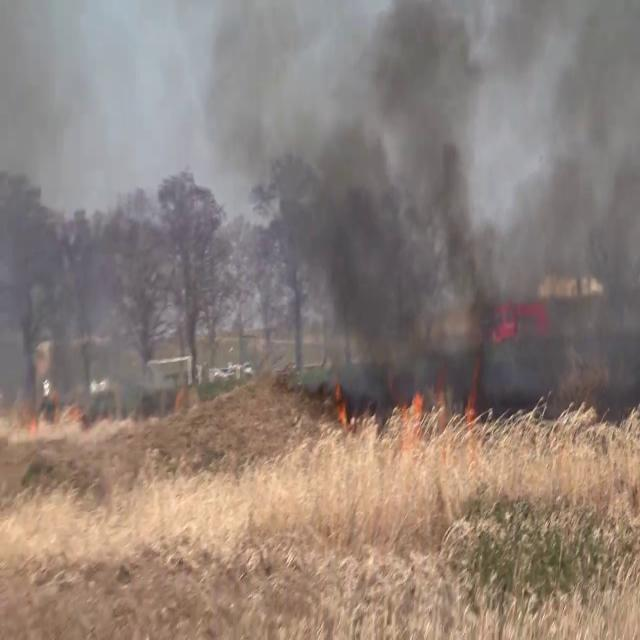Smoke: (183, 0, 640, 412)
